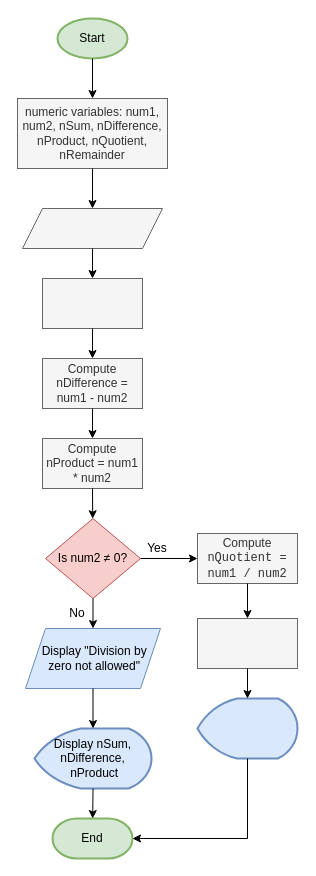
Some shapes in this 316 by 876 pixel diagram are drawn without their labels. Here are the shapes that lost their labels. From the top down, the centre of each, then its label:
At (92,228): "Input num1 , num2".
At (92,303): "Compute nSum = num1 + num2".
At (247,643): "Compute nRemainder = num1 % num2".
At (247,728): "Display nQuotient and nRemainder".
